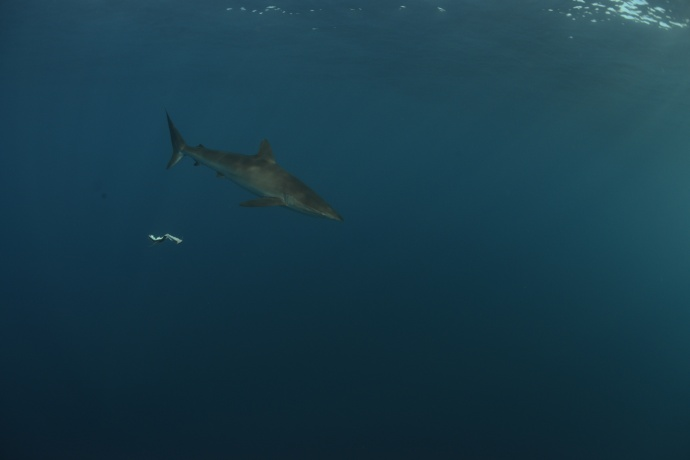Sedoso: (138, 98, 363, 241)
